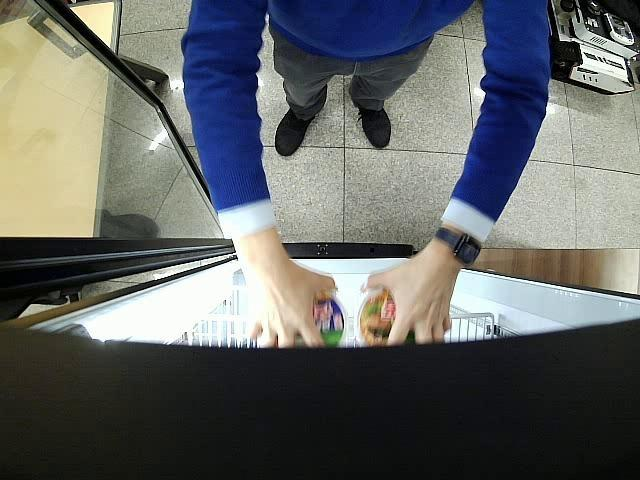09_yukGaeJang: (354, 290, 415, 346), (294, 297, 346, 348)
